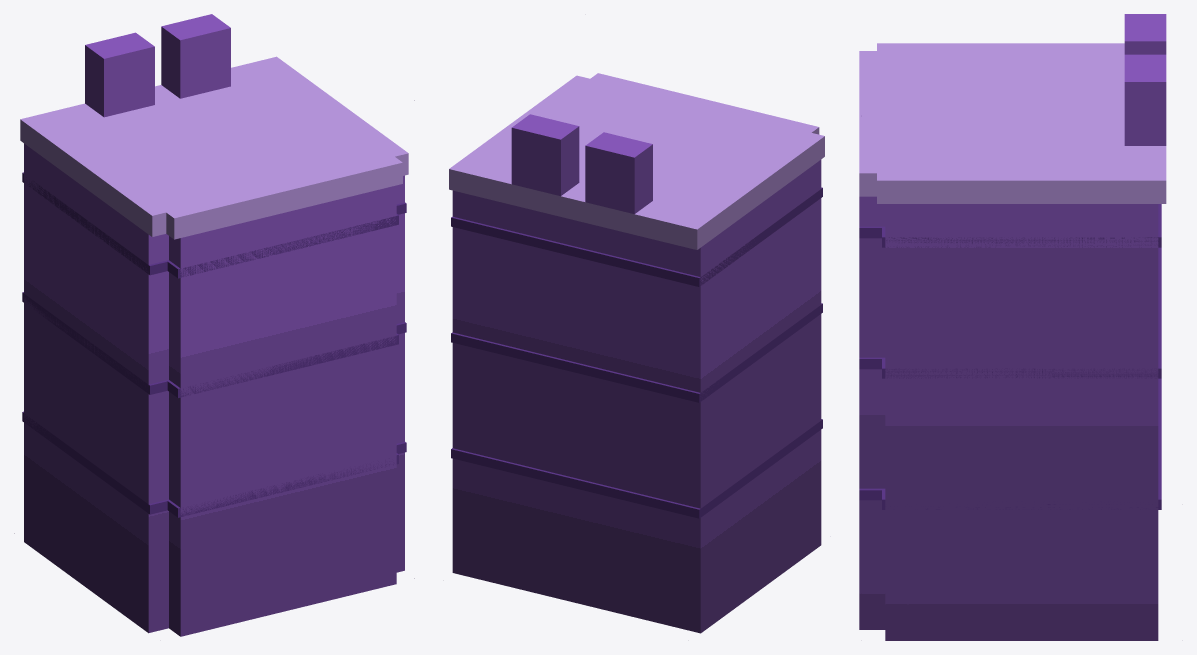
Rendered from perimeter_wall_crystal_tee.glb.
The picture shows the model from 3 angles, left to right: view 1: azimuth 30°, elevation 25°; view 2: azimuth 150°, elevation 25°; view 3: azimuth 270°, elevation 25°; orthographic projection. The views are drawn at different scales.
Bounding box in the file's own units: 2.02 × 3.6 × 2.01.
1 material, 1 textured.
